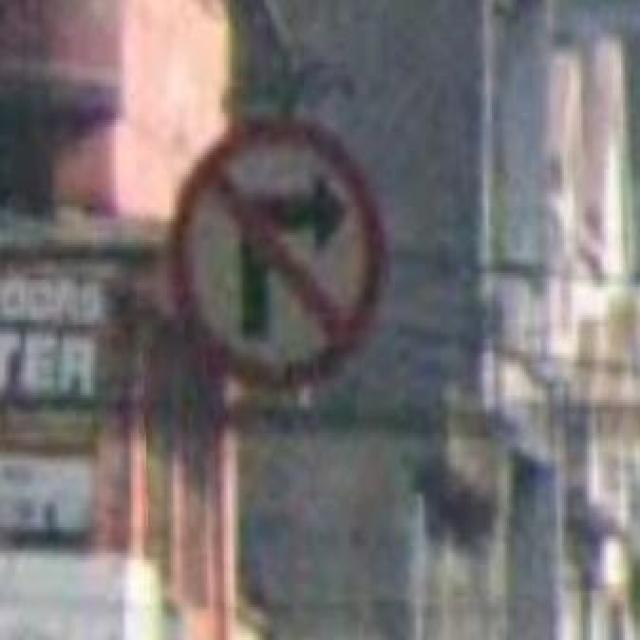traffic sign: (175, 120, 386, 386)
